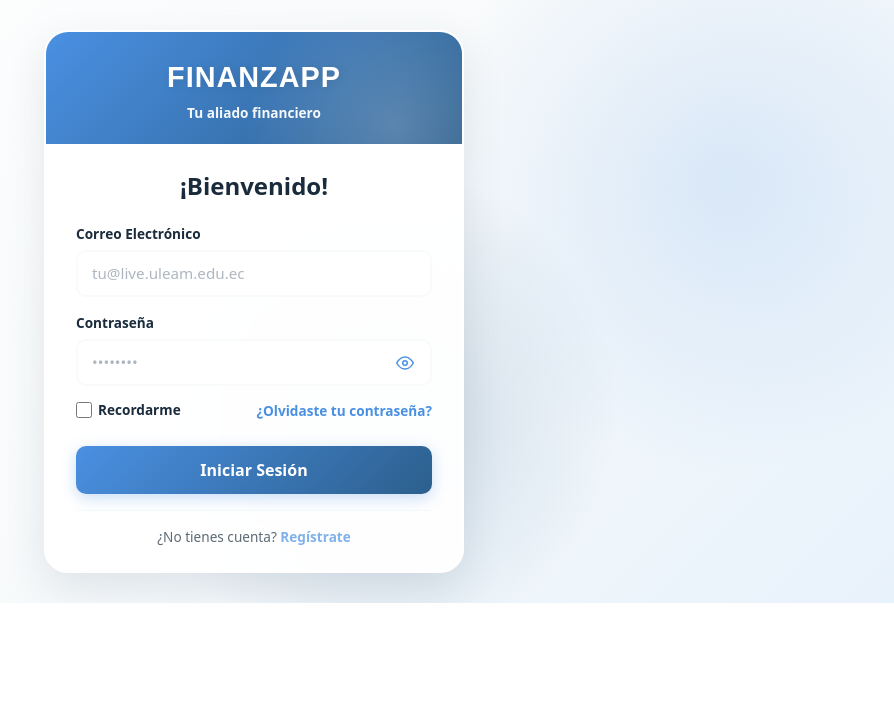
Test: Login.vue › Muestra mensaje de error cuando las credenciales son incorrectas
This screenshot has width=894, height=719.
Type "e1315844983@live.uleam.edu.ec" into the field with test id "email". click: (254,273)
box: [76,250,432,297]
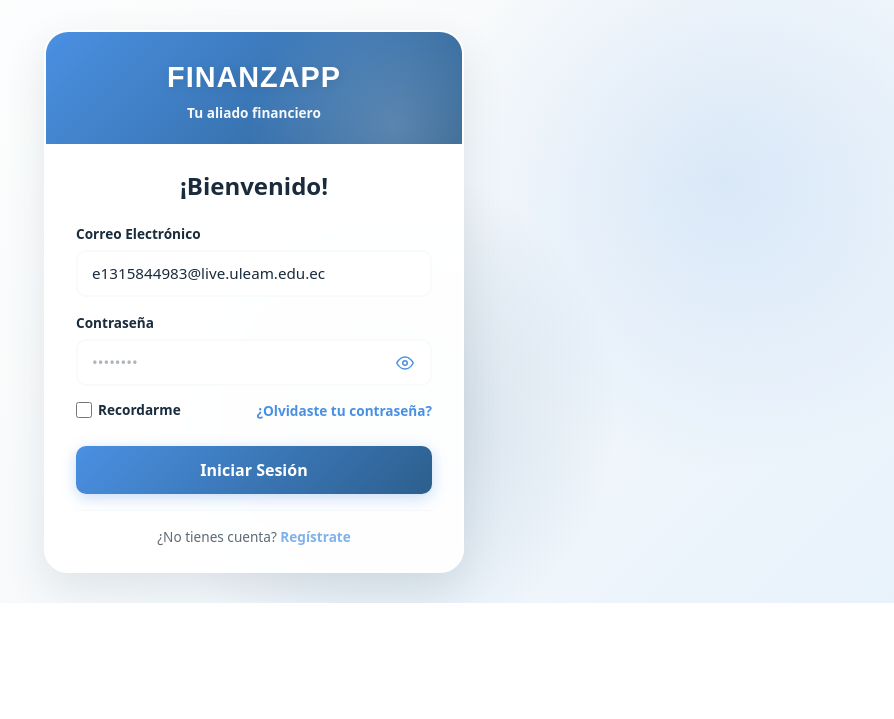
Type "wrongpassword" into the password field with test id "password". click: (254,362)
box: [76,339,432,386]
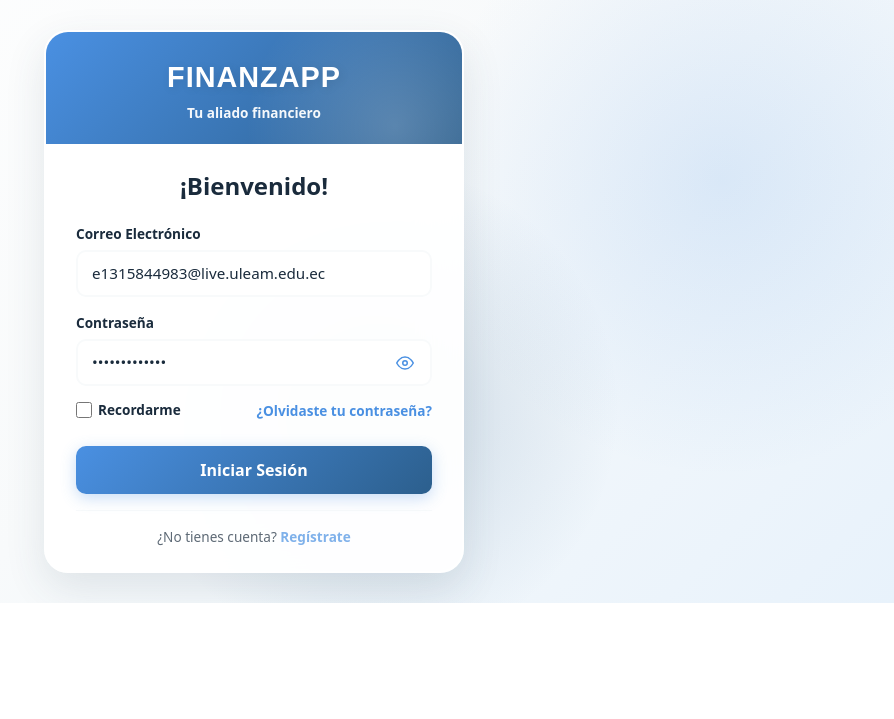
Submit the form, box [76,224,432,494]
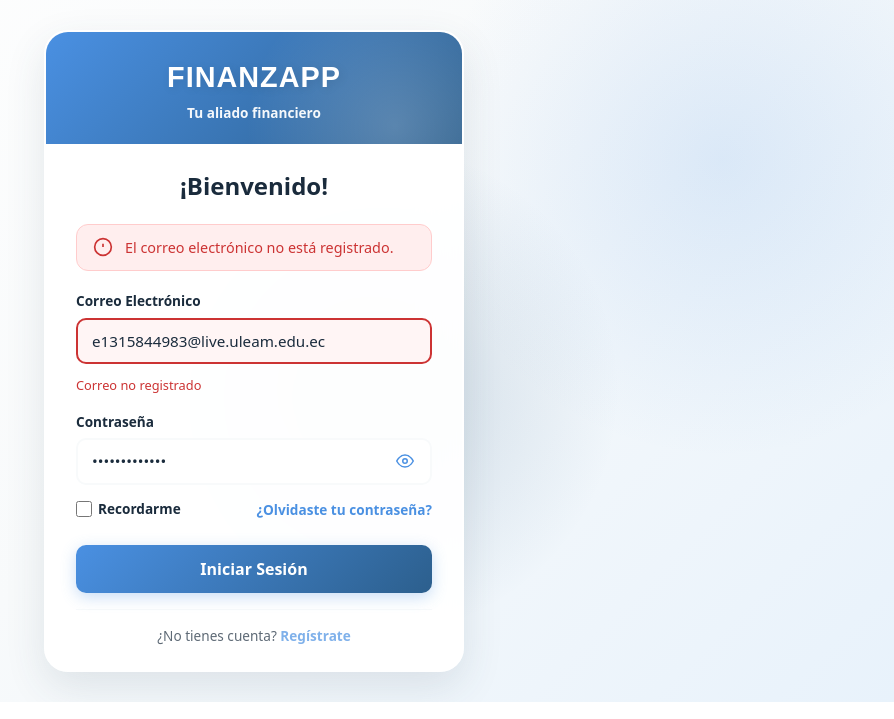
expect the element with class "alert-error" is shown: met, box [76,224,432,271]
